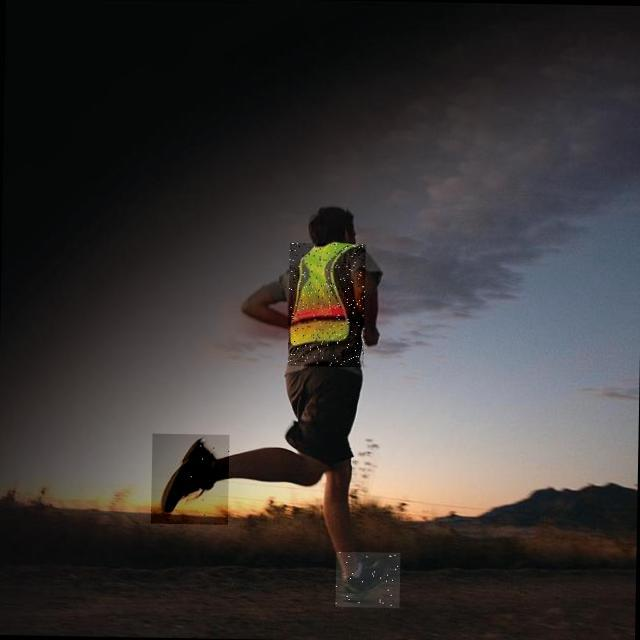Person: (111, 144, 423, 640)
Safety Boot: (150, 433, 229, 525), (335, 552, 400, 608)
Safety Vest: (288, 243, 366, 368)
bare-arms: (358, 315, 390, 357)
no-helmet: (305, 203, 365, 232)
